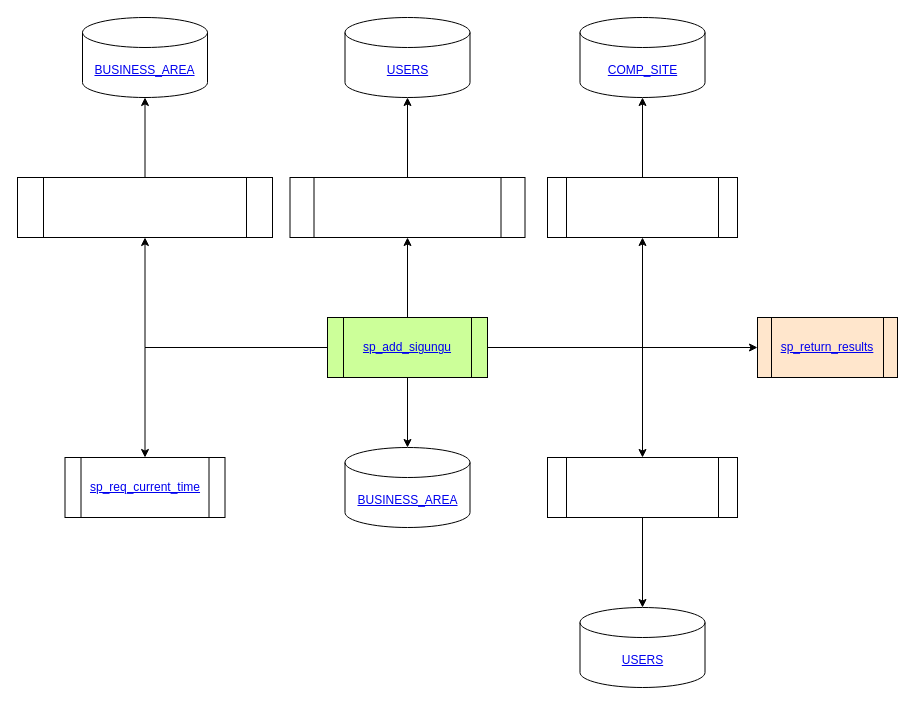
Image size: 915x705. Some labels were removed from this diagram. The shapes that lost their labels are listed below. From the top down, each one's centre as x and y in pixels, then its label:
pixel 144 207: sp_req_sigungu_is_already_added
pixel 407 207: sp_req_site_id_of_user_reg_id
pixel 642 207: sp_req_is_site_collector
pixel 642 487: sp_req_user_exists_by_id
